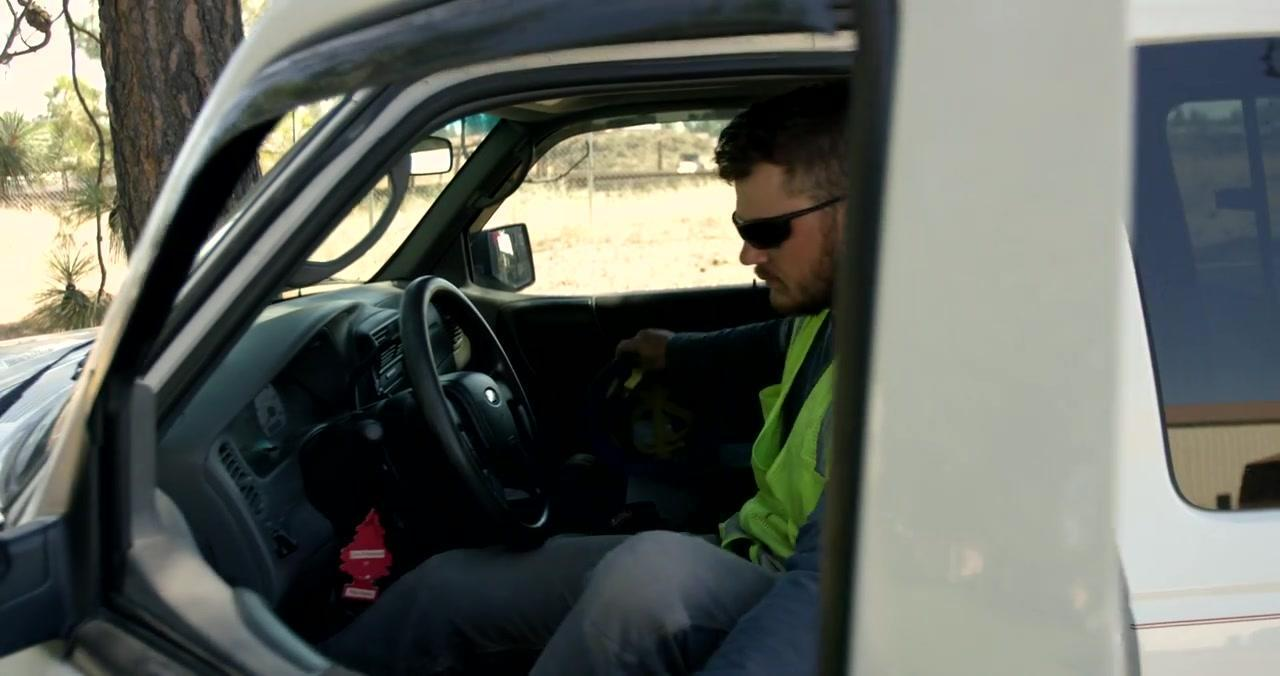vest: (708, 306, 838, 570)
